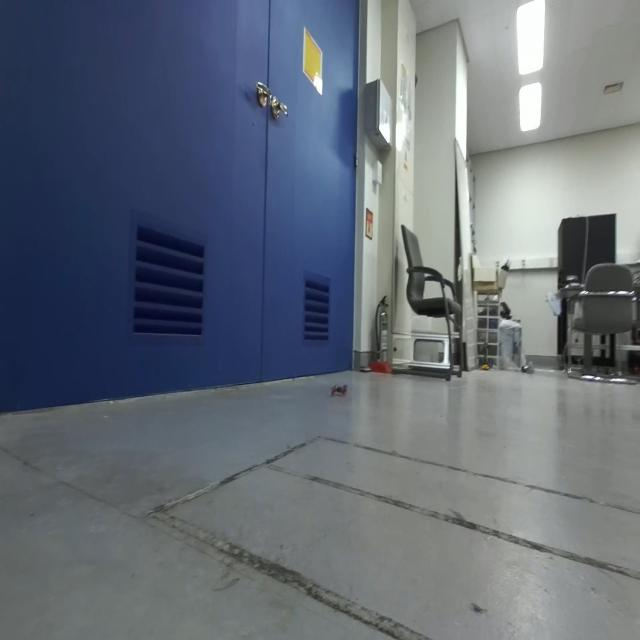crazyflie: (326, 378, 348, 401)
